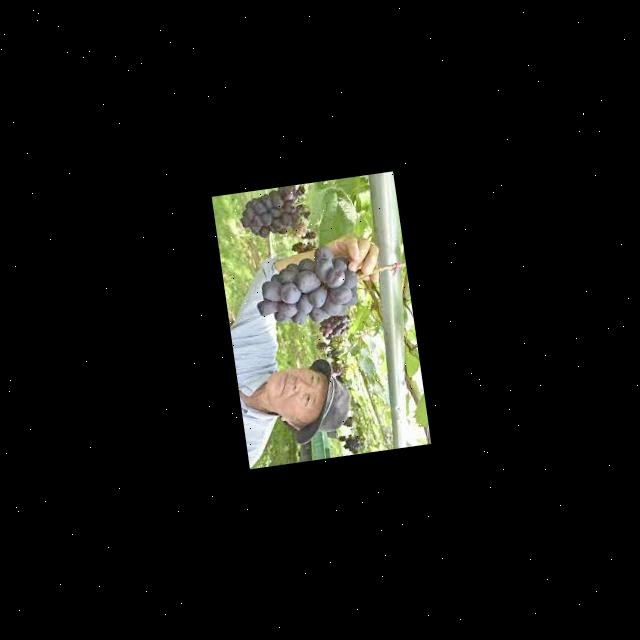grape: (250, 241, 364, 332), (236, 184, 314, 246)
